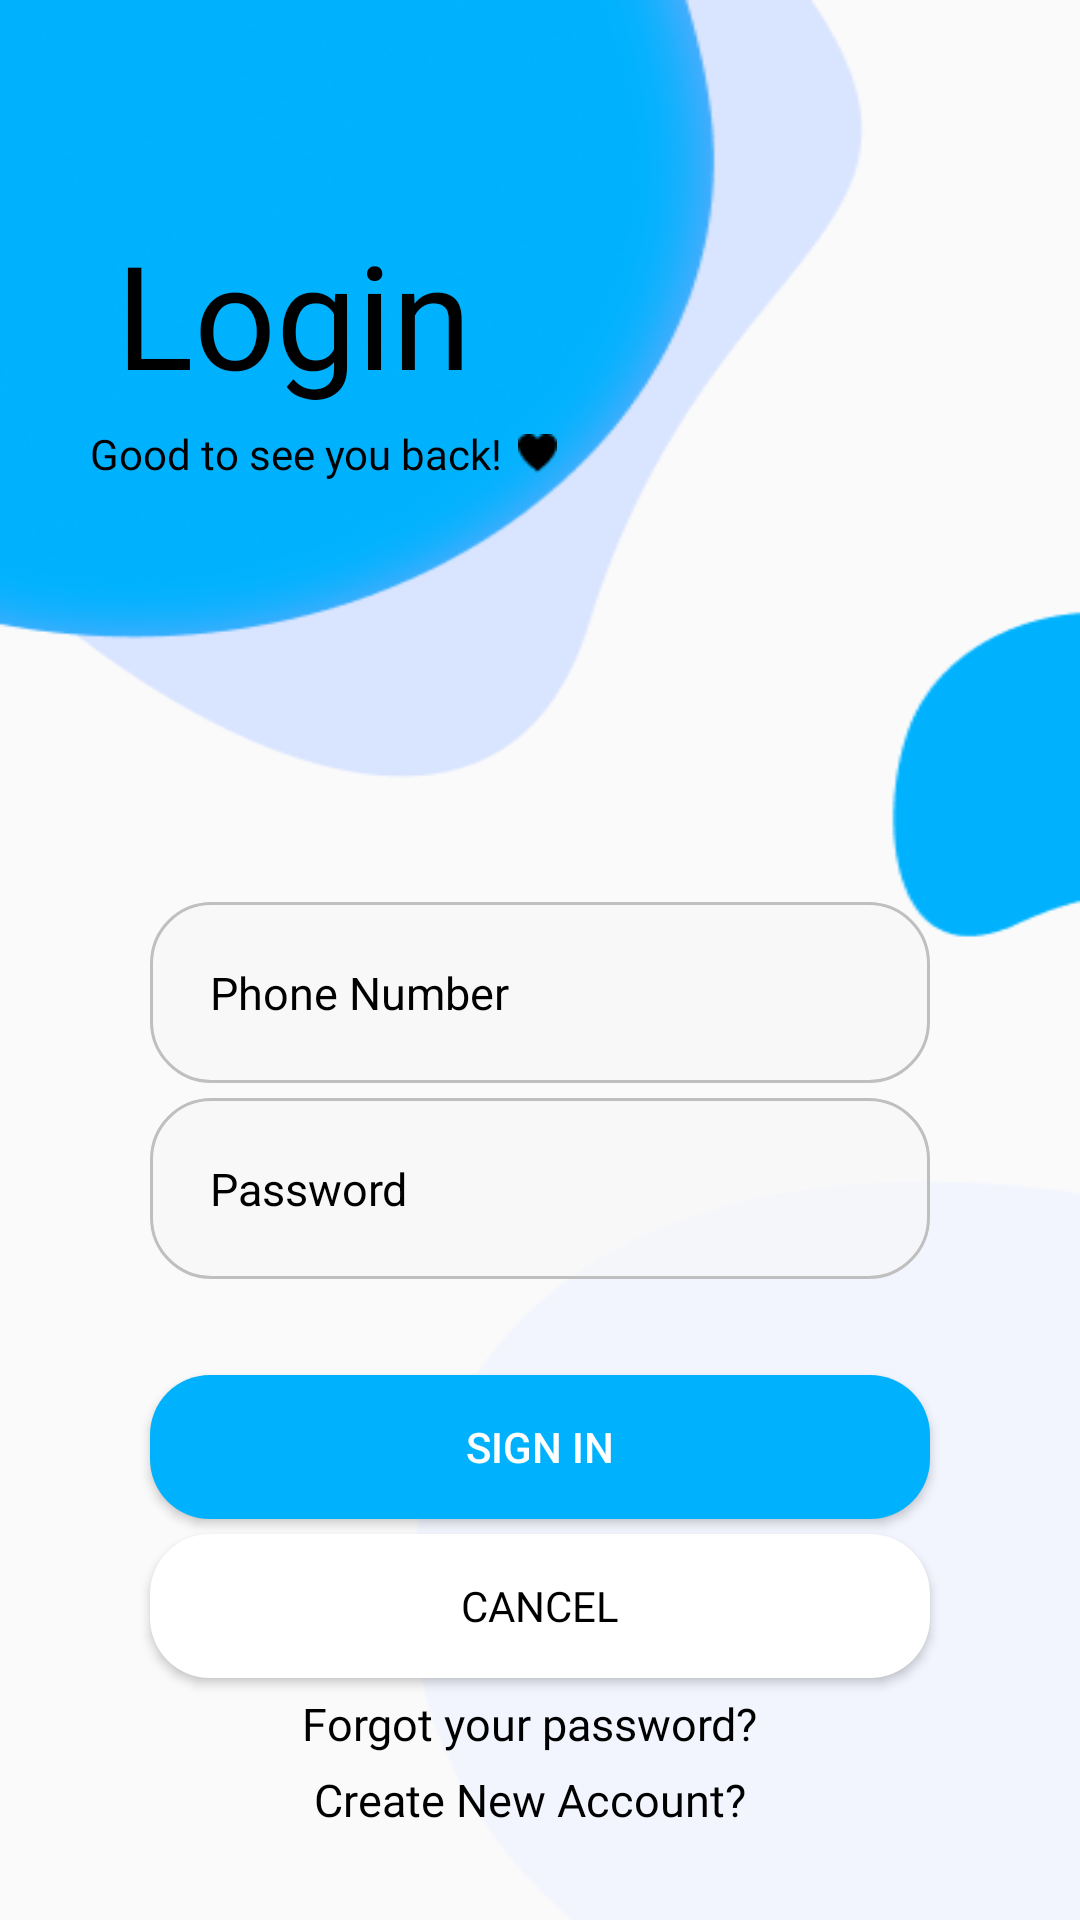

Icon bounding boxes for this 1080 × 1920 phone screenshot, format (x1, y1, x2, y2):
heart: (518, 434, 557, 473)
